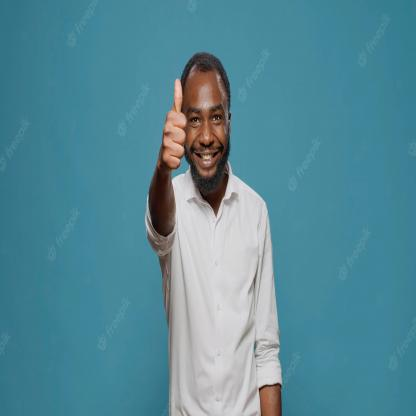Thumbs-Up: (162, 76, 190, 172)
